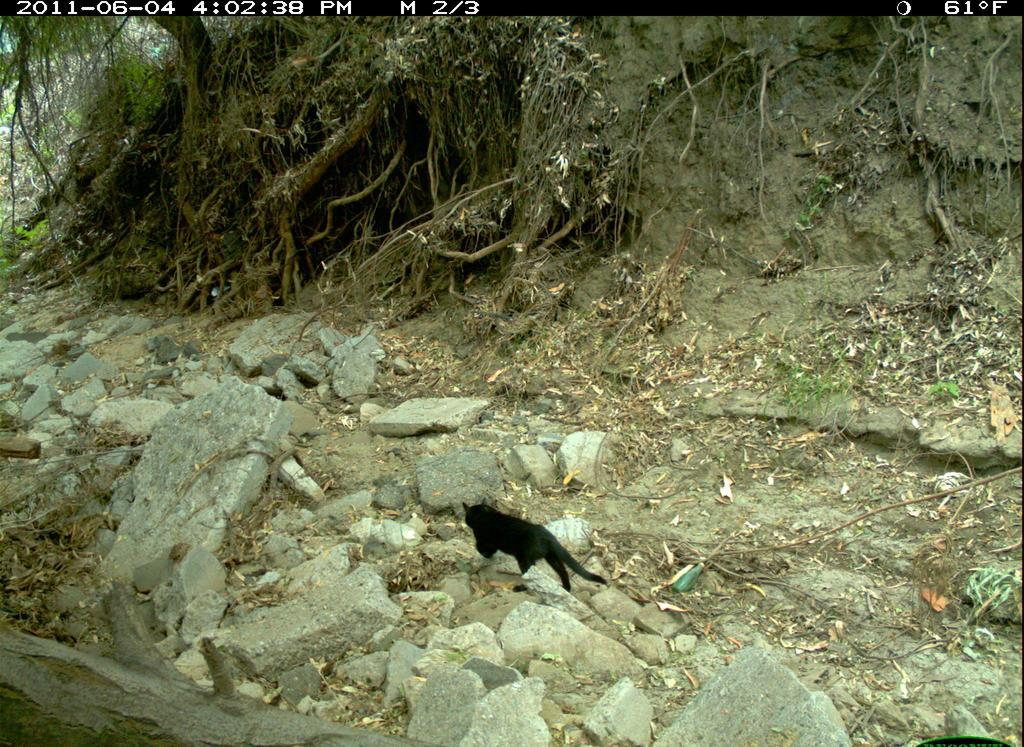cat: (455, 495, 616, 598)
